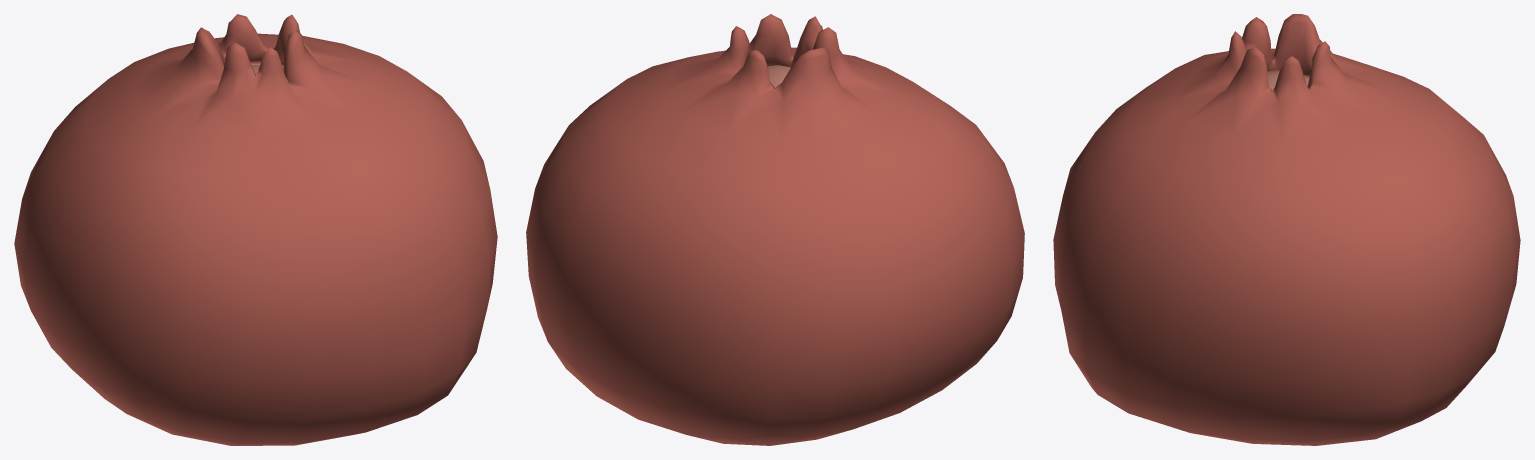
Rendered from Pomegranate_02.dae.
3 views of the same model, side by side, from view 1: azimuth 30°, elevation 25°; view 2: azimuth 150°, elevation 25°; view 3: azimuth 270°, elevation 25° (orthographic). The views are drawn at different scales.
Visible parts, largest first — view 1: Pomegranate_02_LOD0; view 2: Pomegranate_02_LOD0; view 3: Pomegranate_02_LOD0.
Boxes of the visible parts, box(x1,y1,x2,y2) form: Pomegranate_02_LOD0: box(14, 14, 497, 445); Pomegranate_02_LOD0: box(526, 14, 1024, 445); Pomegranate_02_LOD0: box(1053, 14, 1520, 445).
Size of what is drawn, in the model's own units: 4.33 by 4.25 by 3.78.
